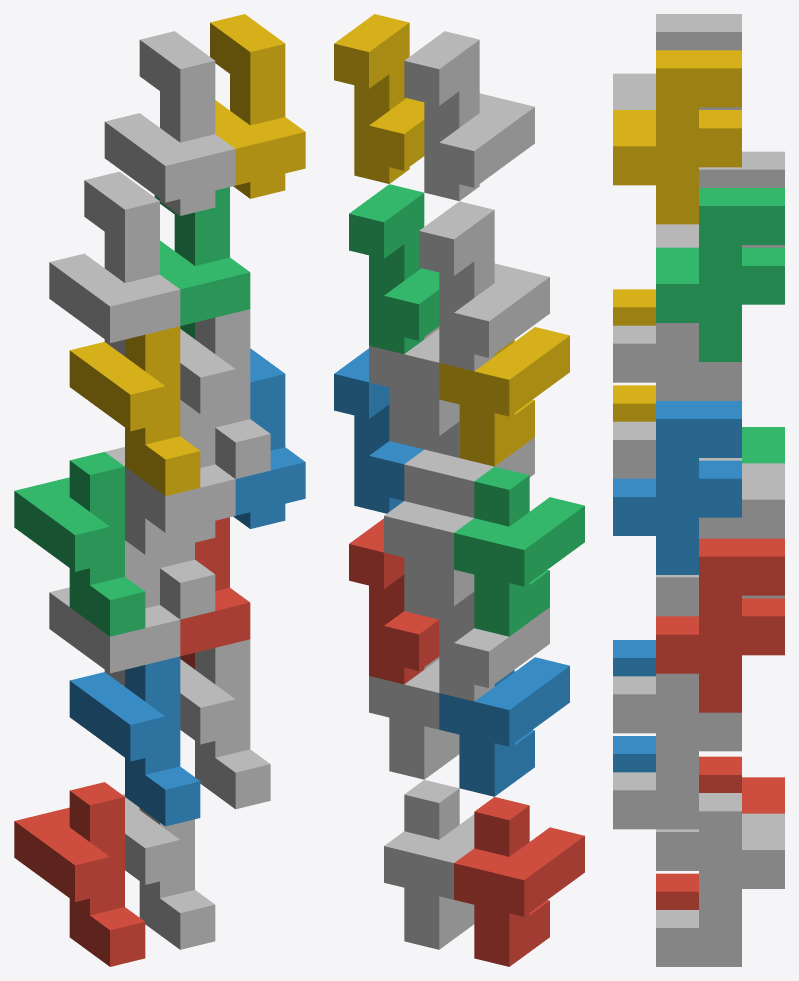
Rendered from tiling.obj.
3 renders of one model, left to right at view 1: azimuth 30°, elevation 25°; view 2: azimuth 150°, elevation 25°; view 3: azimuth 270°, elevation 25°, orthographic. The views are drawn at different scales.
Parts seen in each view (by area): view 1: copy_2_domain_4, copy_2_domain_3, copy_1_domain_1, copy_1_domain_3, copy_1_domain_2, copy_1_domain_4, copy_2_domain_8, copy_1_domain_6, copy_1_domain_8, copy_1_domain_5, copy_2_domain_7, copy_2_domain_1 (+4 smaller); view 2: copy_1_domain_1, copy_1_domain_3, copy_2_domain_4, copy_2_domain_3, copy_1_domain_2, copy_1_domain_4, copy_2_domain_8, copy_1_domain_5, copy_2_domain_7, copy_2_domain_1, copy_2_domain_5, copy_1_domain_7 (+4 smaller); view 3: copy_2_domain_8, copy_2_domain_7, copy_1_domain_5, copy_2_domain_5, copy_2_domain_6, copy_1_domain_6, copy_1_domain_8, copy_1_domain_7, copy_2_domain_4, copy_1_domain_1, copy_2_domain_3, copy_1_domain_2 (+2 smaller).
Boxes of the visible parts, x1,y1,x2,y2 form: copy_2_domain_4: (104,31,235,215); copy_2_domain_3: (49,171,180,356); copy_1_domain_1: (14,782,145,966); copy_1_domain_3: (14,452,145,636); copy_1_domain_2: (69,656,200,826); copy_1_domain_4: (69,326,200,496); copy_2_domain_8: (210,14,305,198); copy_1_domain_6: (180,639,270,809); copy_1_domain_8: (180,309,270,478); copy_1_domain_5: (122,794,215,949); copy_2_domain_7: (154,187,250,338); copy_2_domain_1: (49,540,180,686); copy_1_domain_1: (454,797,584,966); copy_1_domain_3: (454,466,584,636); copy_2_domain_4: (404,31,534,200); copy_2_domain_3: (419,201,549,371); copy_1_domain_2: (439,657,569,796); copy_1_domain_4: (439,327,569,466); copy_2_domain_8: (334,14,424,183); copy_1_domain_5: (384,780,474,949); copy_2_domain_7: (349,184,439,353); copy_2_domain_1: (419,561,549,701); copy_2_domain_5: (349,518,439,684); copy_1_domain_7: (384,449,473,619); copy_2_domain_8: (613,50,741,224); copy_2_domain_7: (656,188,784,361); copy_1_domain_5: (656,793,784,966); copy_2_domain_5: (656,538,784,712); copy_2_domain_6: (613,401,741,574); copy_1_domain_6: (613,673,741,829); copy_1_domain_8: (613,323,741,478); copy_1_domain_7: (656,458,784,616); copy_2_domain_4: (613,14,741,109); copy_1_domain_1: (656,756,784,909); copy_2_domain_3: (656,151,784,247); copy_1_domain_2: (613,640,655,772).
Size of the model in its own units: 6 by 24 by 4.
